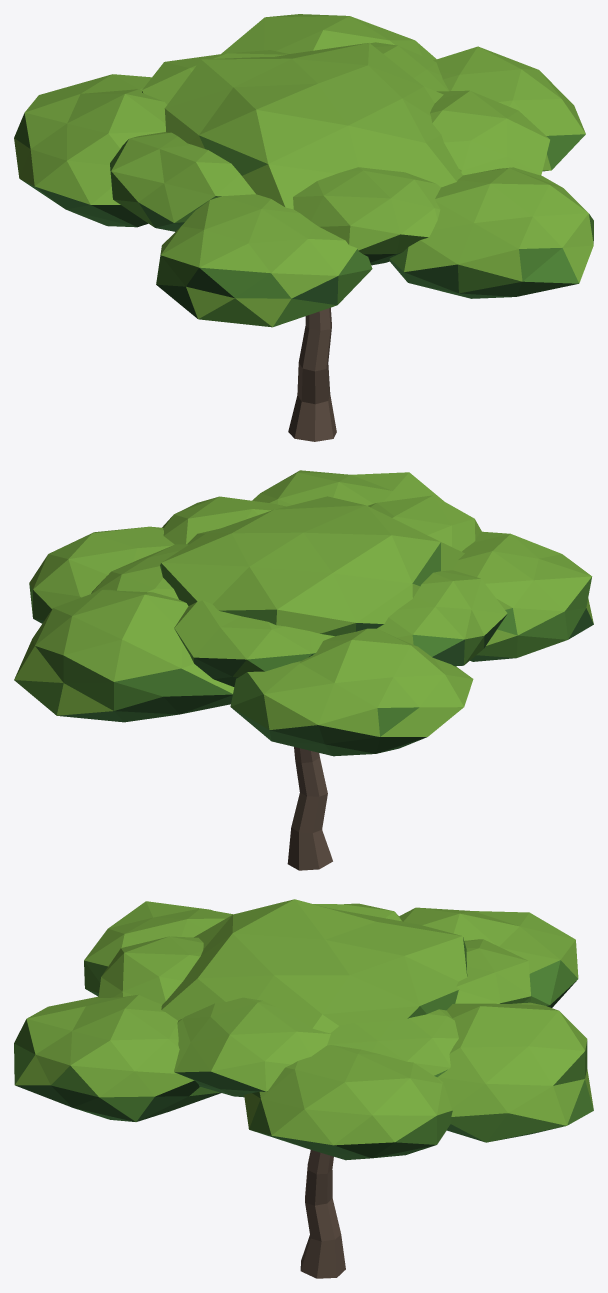
File: T03_RainTreeWideCanopy.glb
3 views of the same model, one above another, from view 1: azimuth 30°, elevation 25°; view 2: azimuth 150°, elevation 25°; view 3: azimuth 270°, elevation 25° (orthographic). The views are drawn at different scales.
Parts seen in each view (by area): view 1: T03_RainTreeWideCanopy; view 2: T03_RainTreeWideCanopy; view 3: T03_RainTreeWideCanopy.
Boxes of the visible parts, <box> form: T03_RainTreeWideCanopy: <box>14,14,593,441</box>; T03_RainTreeWideCanopy: <box>14,470,593,870</box>; T03_RainTreeWideCanopy: <box>14,899,593,1278</box>.
Bounding box in the file's own units: 9.72 × 6.75 × 10.51.
